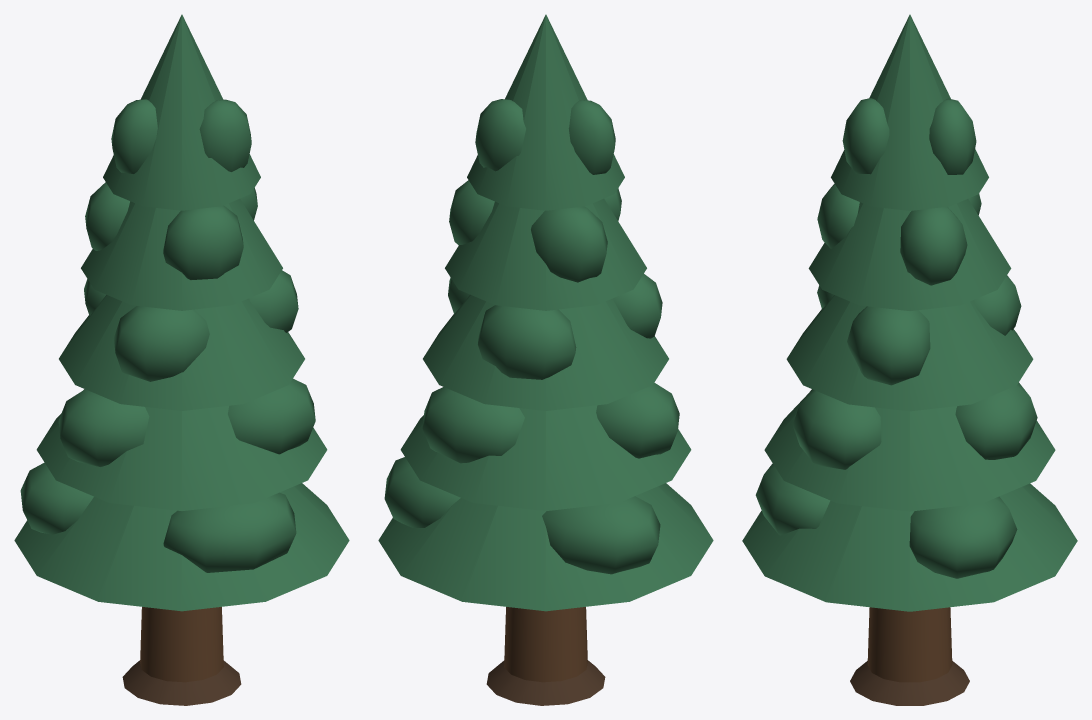
File: pine_l02-2.glb
3 views of the same model, side by side, from view 1: azimuth 30°, elevation 25°; view 2: azimuth 150°, elevation 25°; view 3: azimuth 270°, elevation 25° (orthographic).
Visible parts, largest first — view 1: layered_branch_crown, tapered_trunk, pine_l02; view 2: layered_branch_crown, tapered_trunk, pine_l02; view 3: layered_branch_crown, tapered_trunk, pine_l02.
Boxes of the visible parts, x1,y1,x2,y2 form: layered_branch_crown: [14, 14, 349, 611]; tapered_trunk: [140, 607, 223, 682]; pine_l02: [122, 660, 241, 705]; layered_branch_crown: [378, 14, 713, 611]; tapered_trunk: [504, 607, 587, 682]; pine_l02: [486, 660, 605, 705]; layered_branch_crown: [742, 14, 1077, 611]; tapered_trunk: [867, 607, 952, 682]; pine_l02: [850, 661, 969, 705].
Bounding box in the file's own units: 1.72 × 3.77 × 1.72.
